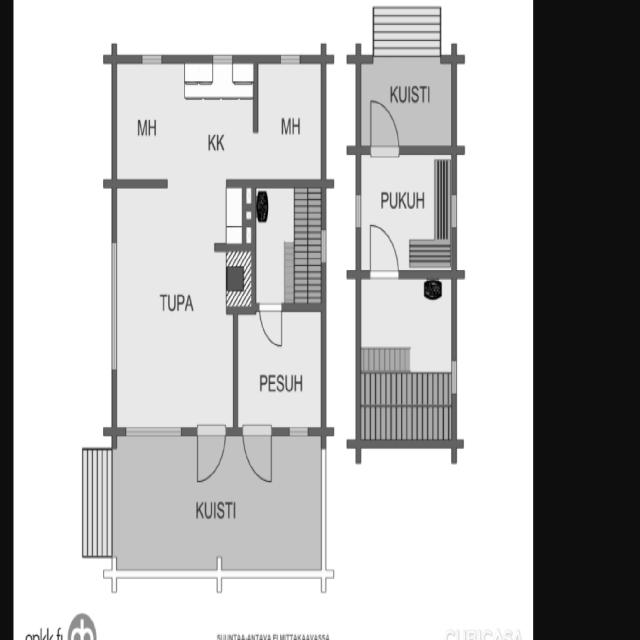door: (194, 422, 227, 487), (242, 421, 274, 487), (368, 218, 400, 278), (371, 100, 402, 158), (258, 300, 286, 350)
window: (107, 236, 121, 379), (119, 419, 189, 441), (206, 48, 237, 70), (449, 355, 461, 405), (277, 49, 305, 70), (137, 50, 166, 69), (352, 193, 363, 237), (450, 189, 460, 235), (286, 422, 312, 439), (320, 222, 329, 269)
zone: (114, 182, 237, 437), (117, 60, 256, 179), (358, 272, 454, 443), (358, 149, 454, 271), (236, 306, 324, 432), (238, 183, 325, 305), (359, 58, 455, 150), (258, 58, 322, 185)
